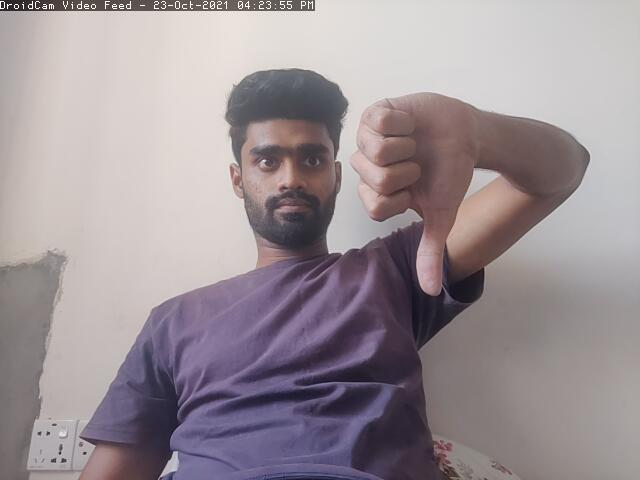ThumbsDown: (352, 91, 479, 303)
